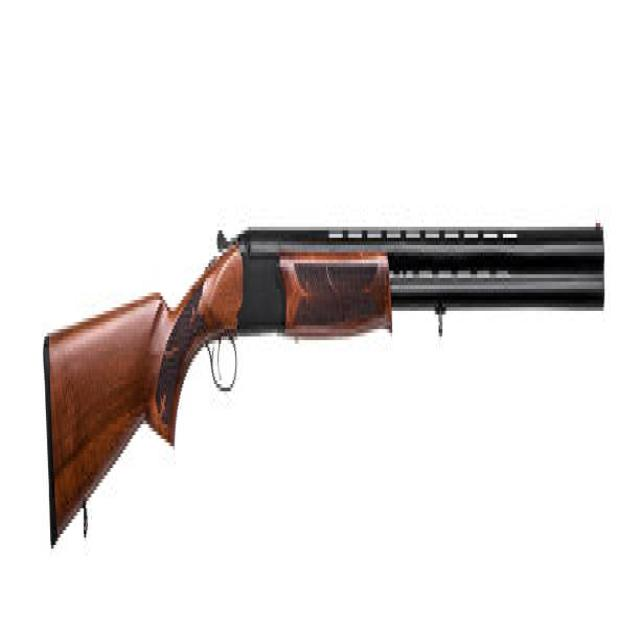rifle: (42, 194, 607, 563)
